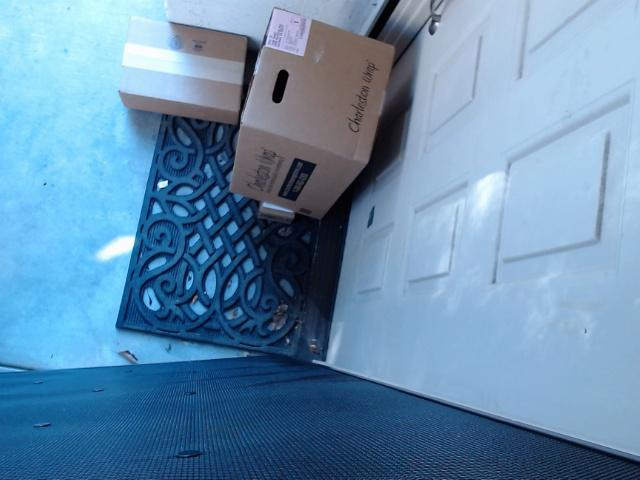box: (230, 4, 414, 247), (76, 1, 256, 156)
